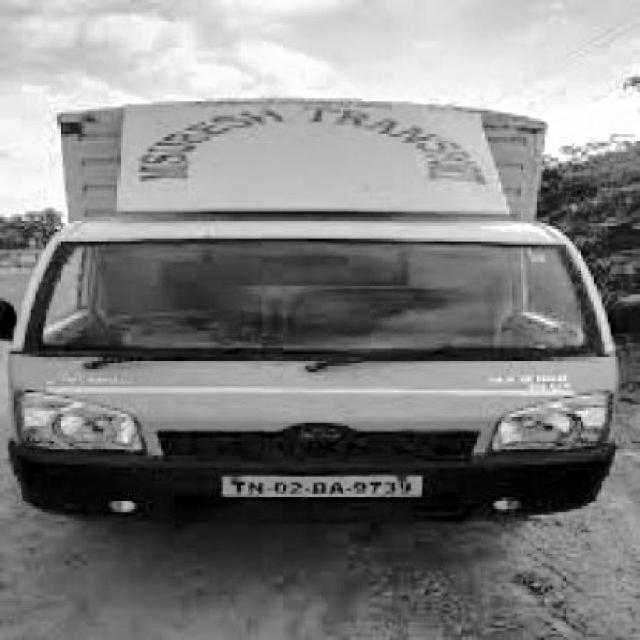LCV: (20, 87, 589, 596), (594, 528, 626, 572)
